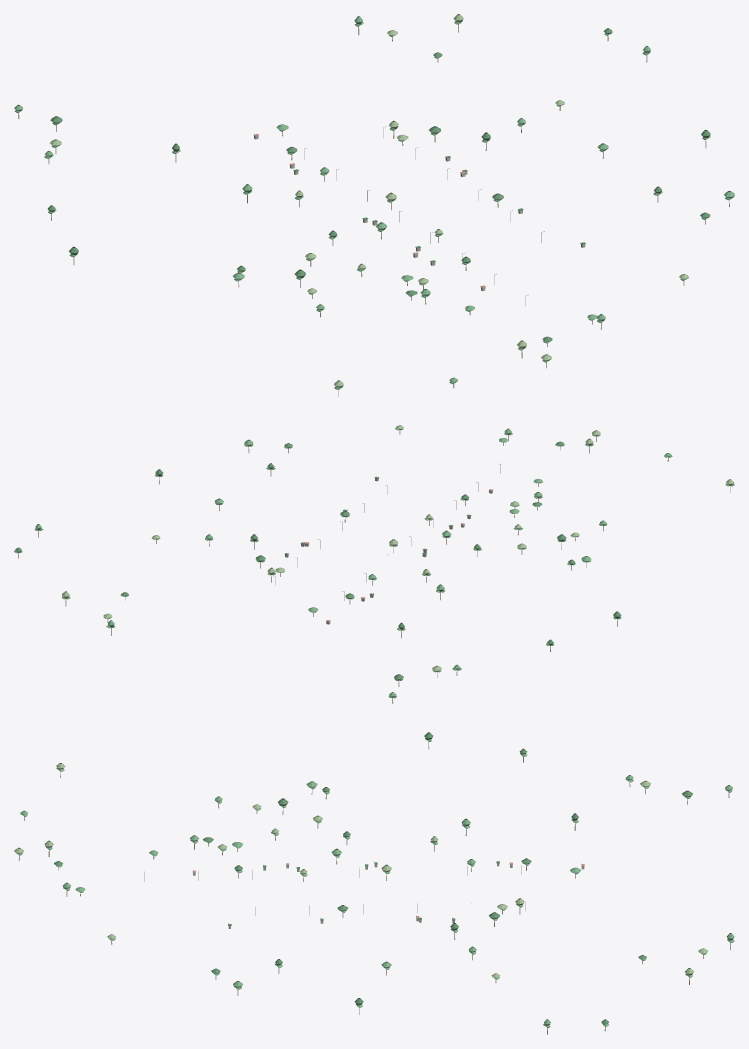
The picture shows the model from 3 angles, top to bottom: view 1: azimuth 30°, elevation 25°; view 2: azimuth 150°, elevation 25°; view 3: azimuth 270°, elevation 25°; orthographic projection. The views are drawn at different scales.
Visible parts, largest first — view 1: Farmgate neighborhood furniture (approximate); view 2: Farmgate neighborhood furniture (approximate); view 3: Farmgate neighborhood furniture (approximate).
Part boxes in pixels (left/top/right/bottom): Farmgate neighborhood furniture (approximate): left=14, top=14, right=734, bottom=396; Farmgate neighborhood furniture (approximate): left=14, top=425, right=734, bottom=703; Farmgate neighborhood furniture (approximate): left=14, top=732, right=734, bottom=1034.
Bounding box in the file's own units: 444 × 12.12 × 468.
